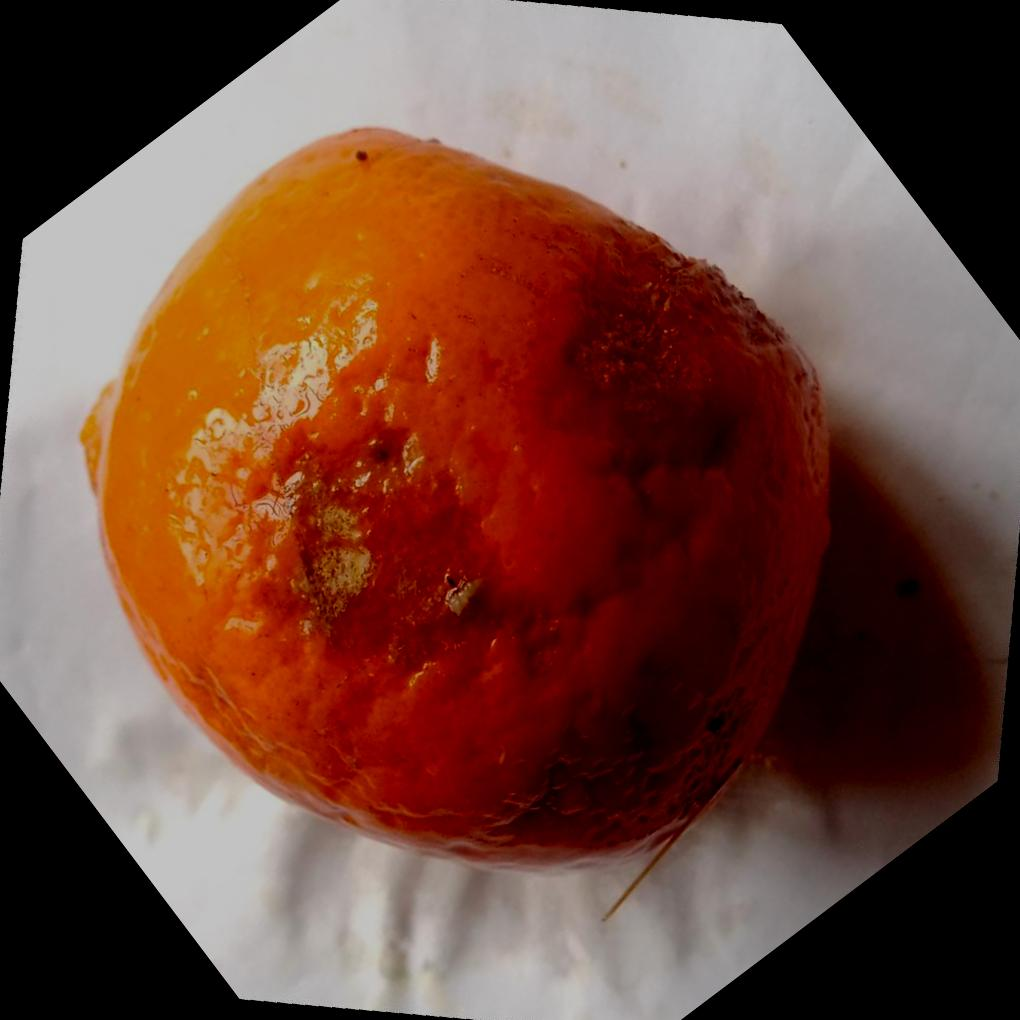FreshOrange: (80, 126, 836, 878)
